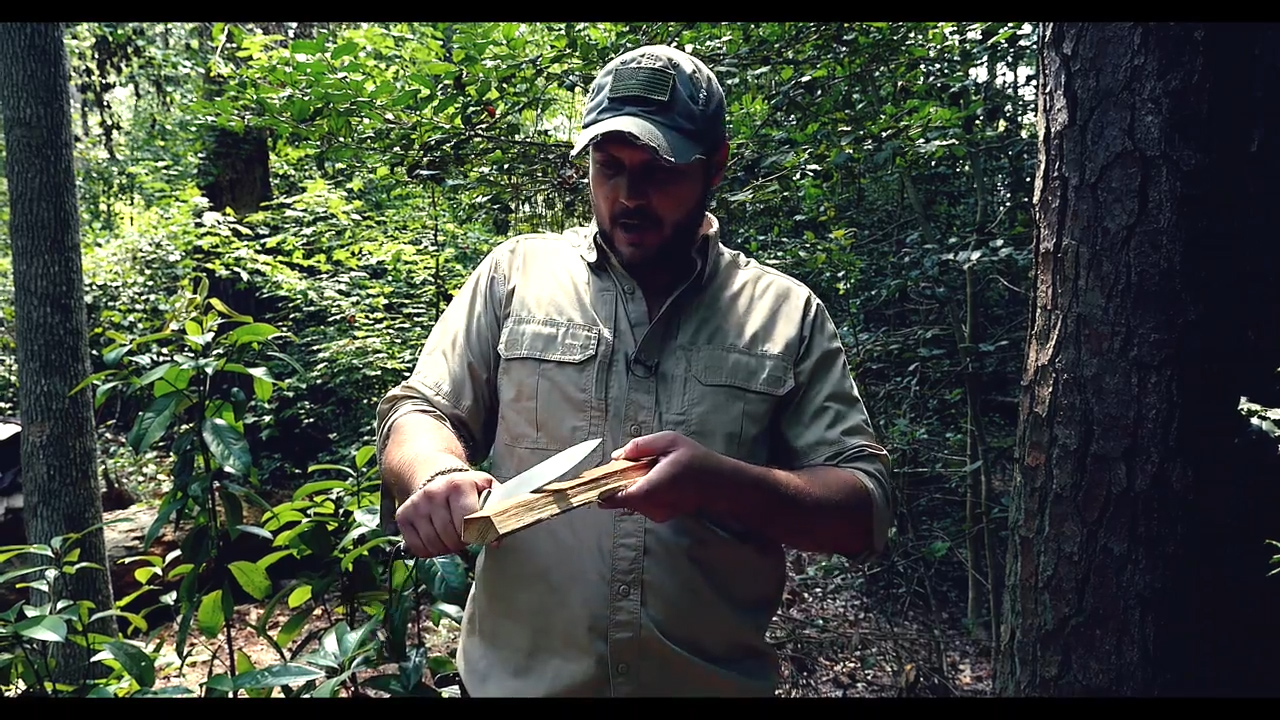knife: (397, 430, 613, 557)
